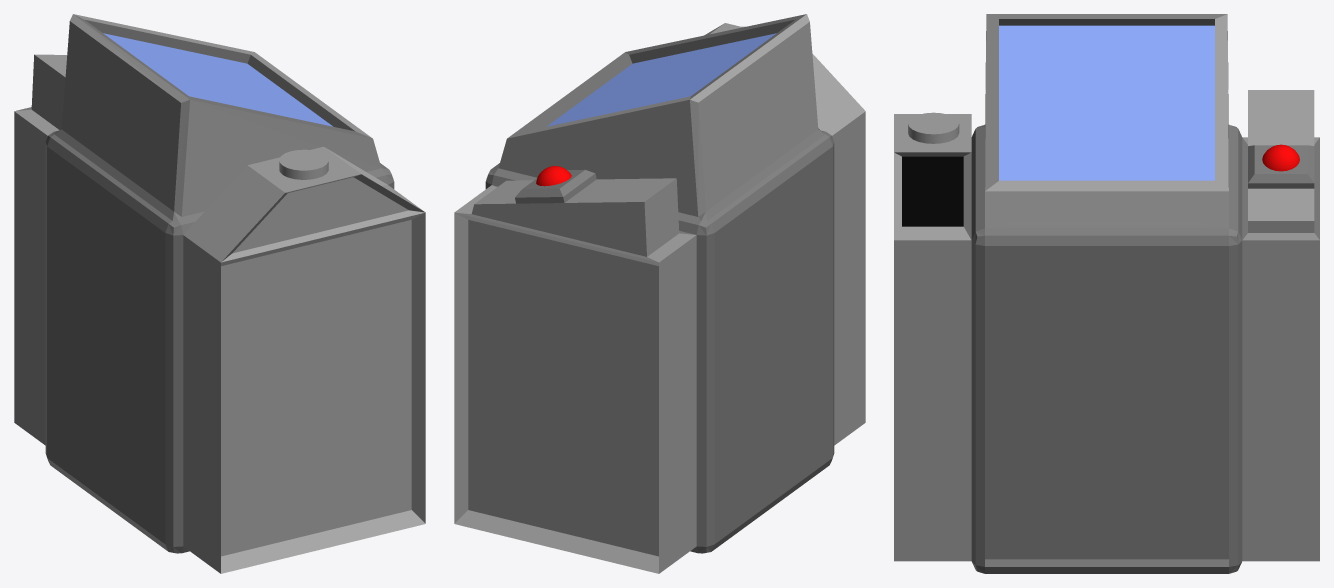
Rendered from CONTROL STAITION.fbx.
The picture shows the model from 3 angles, left to right: view 1: azimuth 30°, elevation 25°; view 2: azimuth 150°, elevation 25°; view 3: azimuth 270°, elevation 25°; orthographic projection. The views are drawn at different scales.
Visible parts, largest first — view 1: pCube7, pCylinder5; view 2: pCube7, pSphere4; view 3: pCube7, pCylinder5, pSphere4.
Part boxes in pixels (left/top/right/bottom): pCube7: left=14, top=14, right=425, bottom=573; pCylinder5: left=279, top=149, right=328, bottom=179; pCube7: left=454, top=14, right=865, bottom=573; pSphere4: left=536, top=166, right=571, bottom=186; pCube7: left=894, top=14, right=1319, bottom=573; pCylinder5: left=908, top=112, right=959, bottom=143; pSphere4: left=1262, top=144, right=1299, bottom=171.
Size of the model in its own units: 0.5348 by 1.01 by 0.8412.
